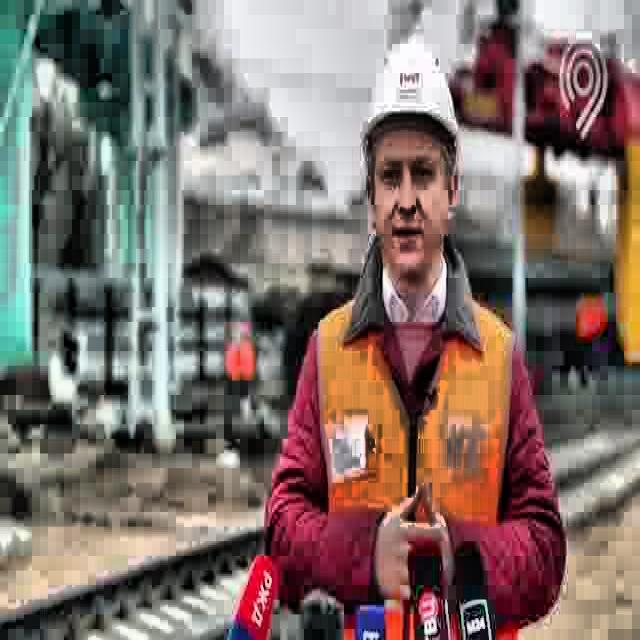safety_helmet: (358, 40, 462, 163)
safety_jacket: (313, 292, 525, 640)
